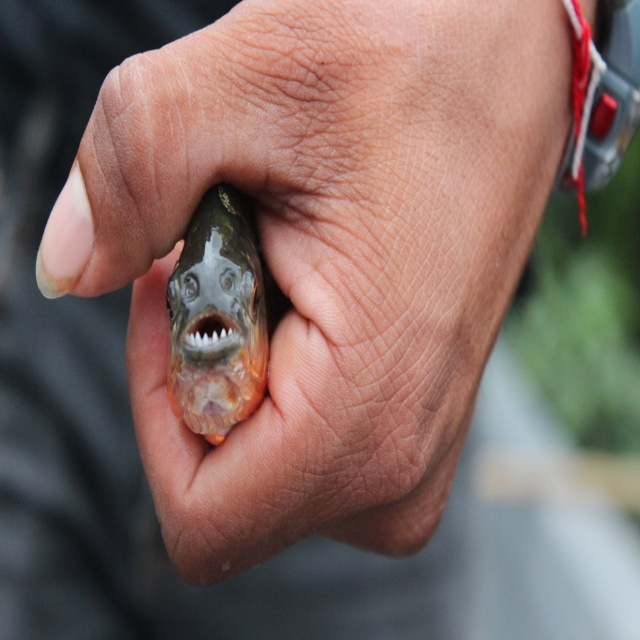Fish: (150, 186, 282, 426)
